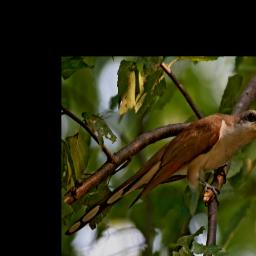Cuckoo: (63, 108, 256, 237)
